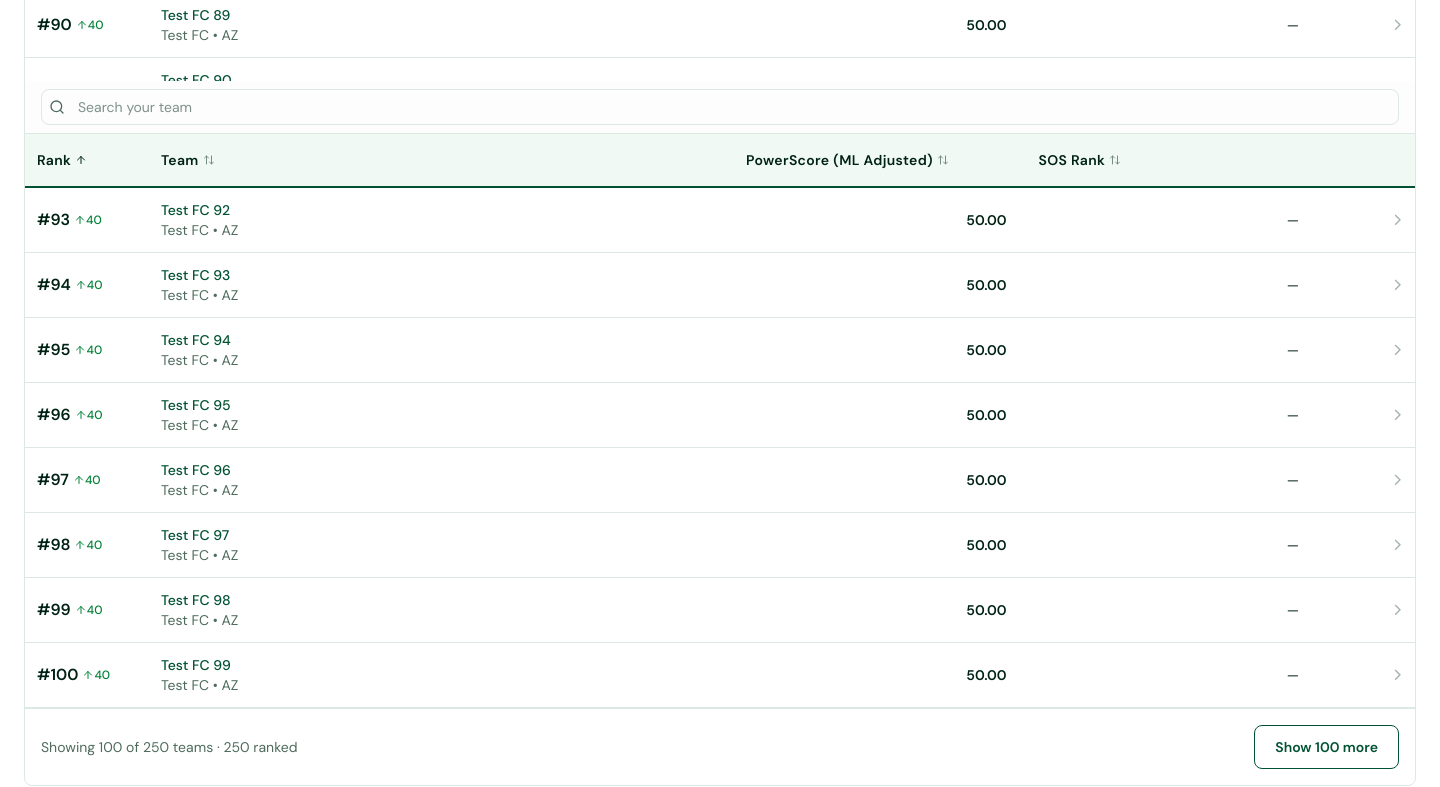
RankingsTable › adds 100 rows per Show more, moves focus to the first new row, and offers only what is left
Click the button with test id "rankings-show-more" at (1327, 747), box [1254,725,1399,769]
(page scrolled)
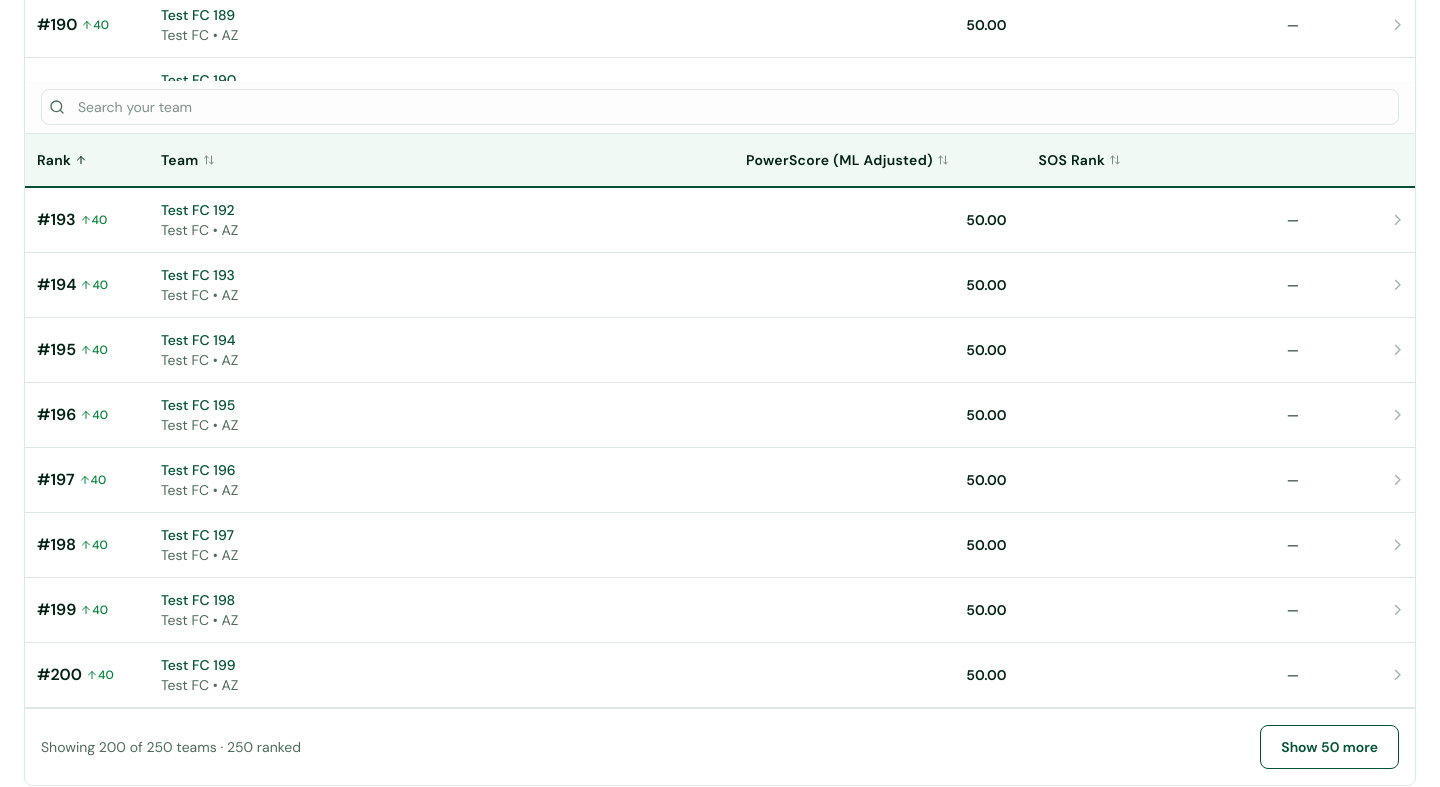
Now the message with test id "rankings-showing-count" reads "Showing 200 of 250 teams · 250 ranked", box [41,737,301,757]
Now the button with test id "rankings-show-more" reads "Show 50 more"
Click the button with test id "rankings-show-more" at (1330, 747), box [1260,725,1399,769]
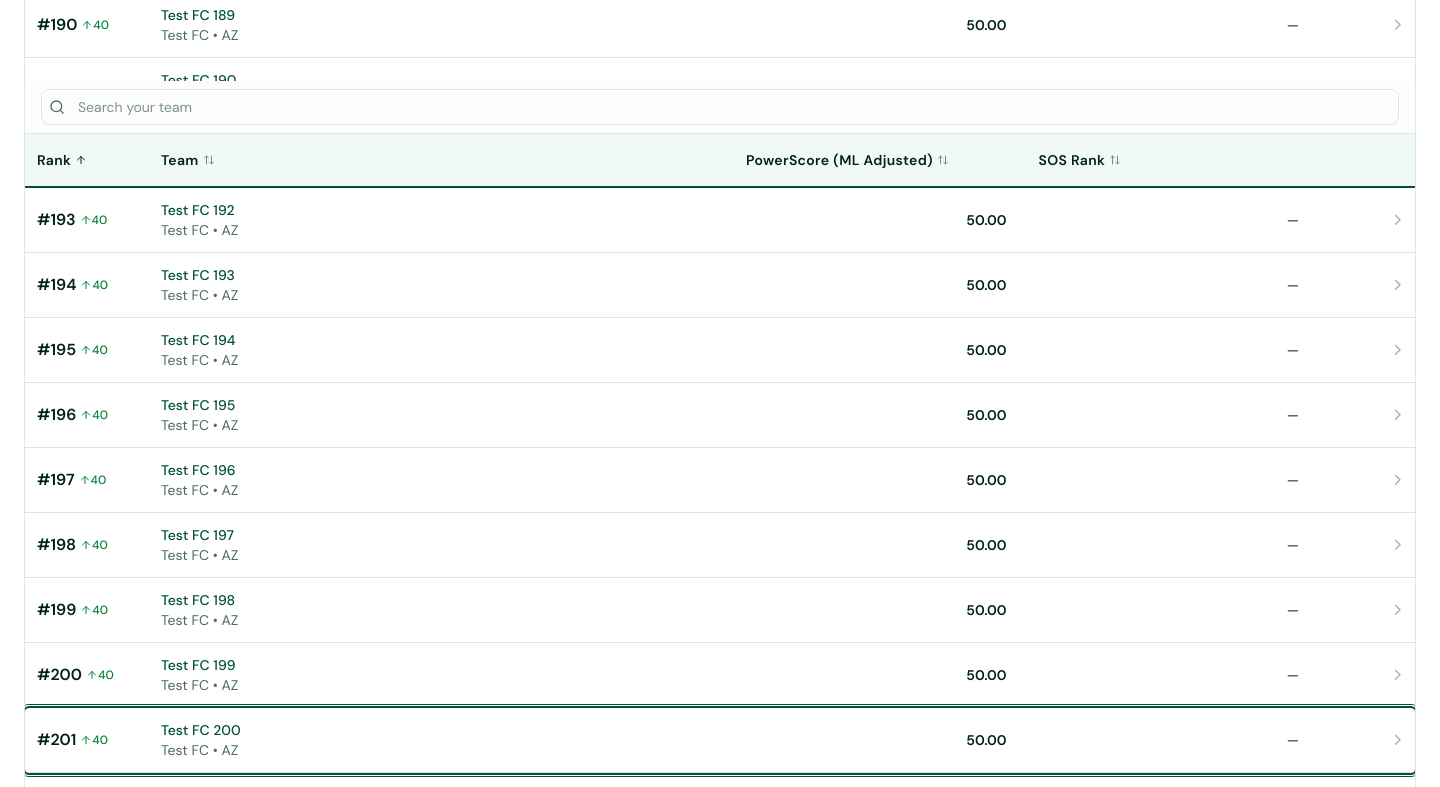
Now the button with test id "rankings-show-more" is gone
